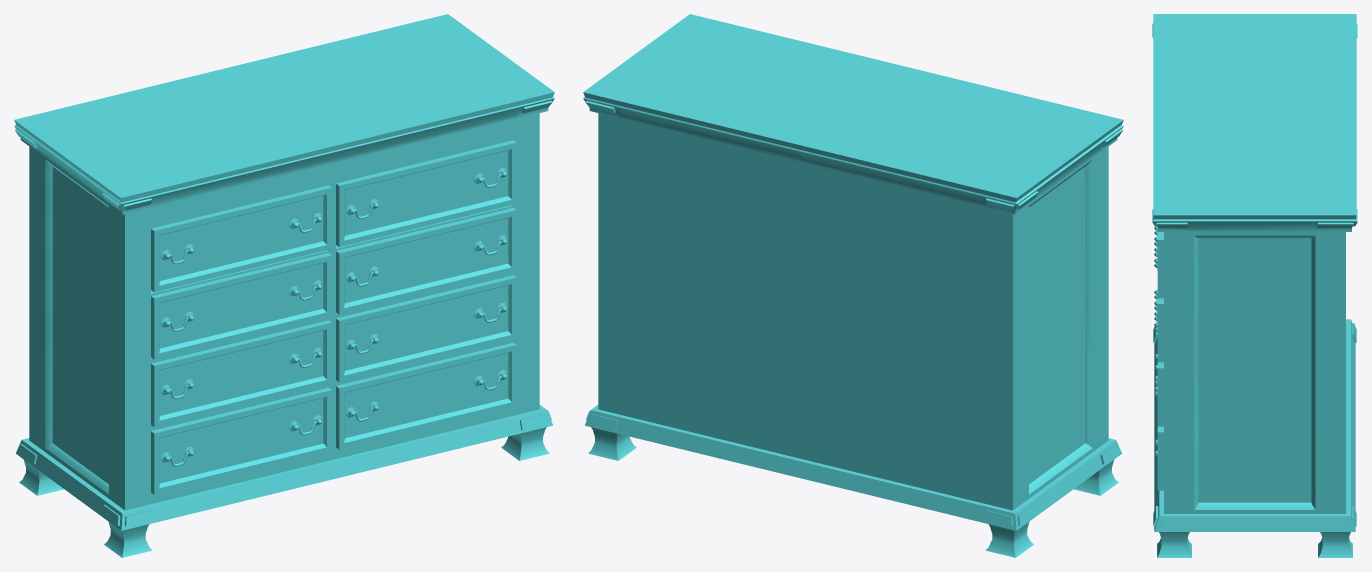
The model's file is Wardrobe.fbx.
3 renders of one model, left to right at view 1: azimuth 30°, elevation 25°; view 2: azimuth 150°, elevation 25°; view 3: azimuth 270°, elevation 25°, orthographic. The views are drawn at different scales.
Visible parts, largest first — view 1: Wardrope_low.001, Drawer-02_low.001; view 2: Wardrope_low.001; view 3: Wardrope_low.001, Drawer-02_low.001.
Part boxes in pixels (x1,y1,x2,y2): Wardrope_low.001: (14,14,554,557); Drawer-02_low.001: (151,140,516,494); Wardrope_low.001: (583,14,1123,557); Wardrope_low.001: (1152,14,1357,557); Drawer-02_low.001: (1154,226,1163,490).
Size of the model in its own units: 210 by 90.32 by 167.
